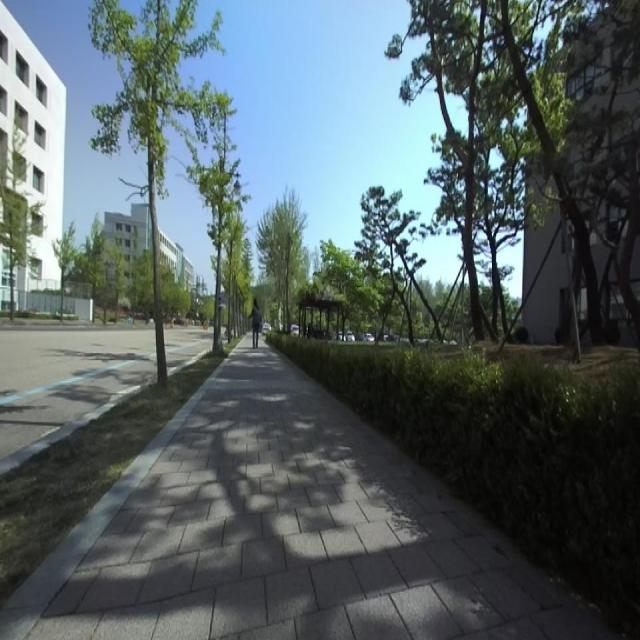sidewalk: (0, 333, 615, 639), (26, 335, 614, 639)
